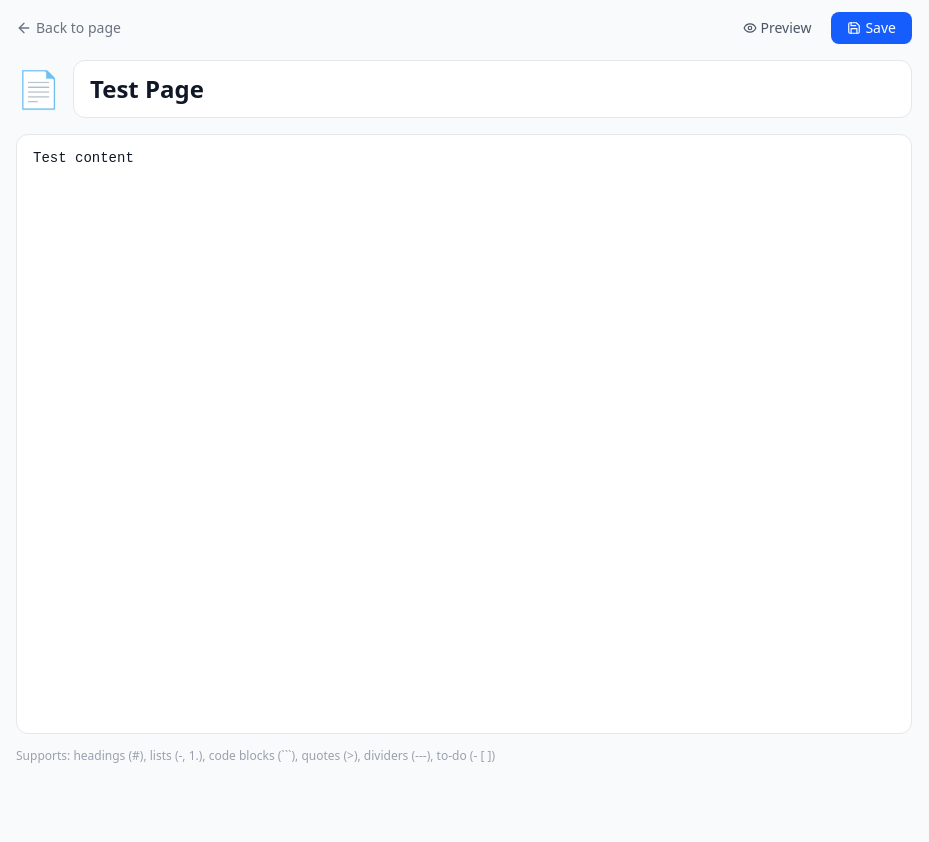
PageEdit › should show success message after saving
Step 1. Replace the text in the field showing "Test Page" with "Updated Title" → x=492, y=89, box [73,60,912,118]
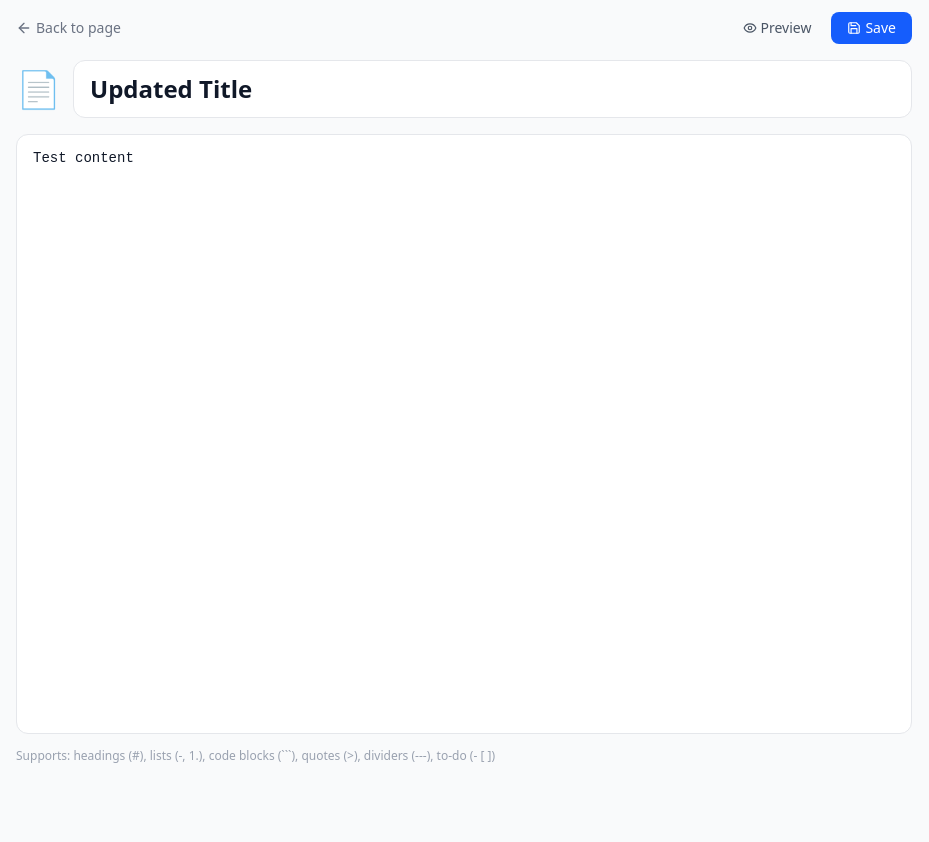
Step 2. Click the button "Save" → x=872, y=28, box [831,12,912,44]
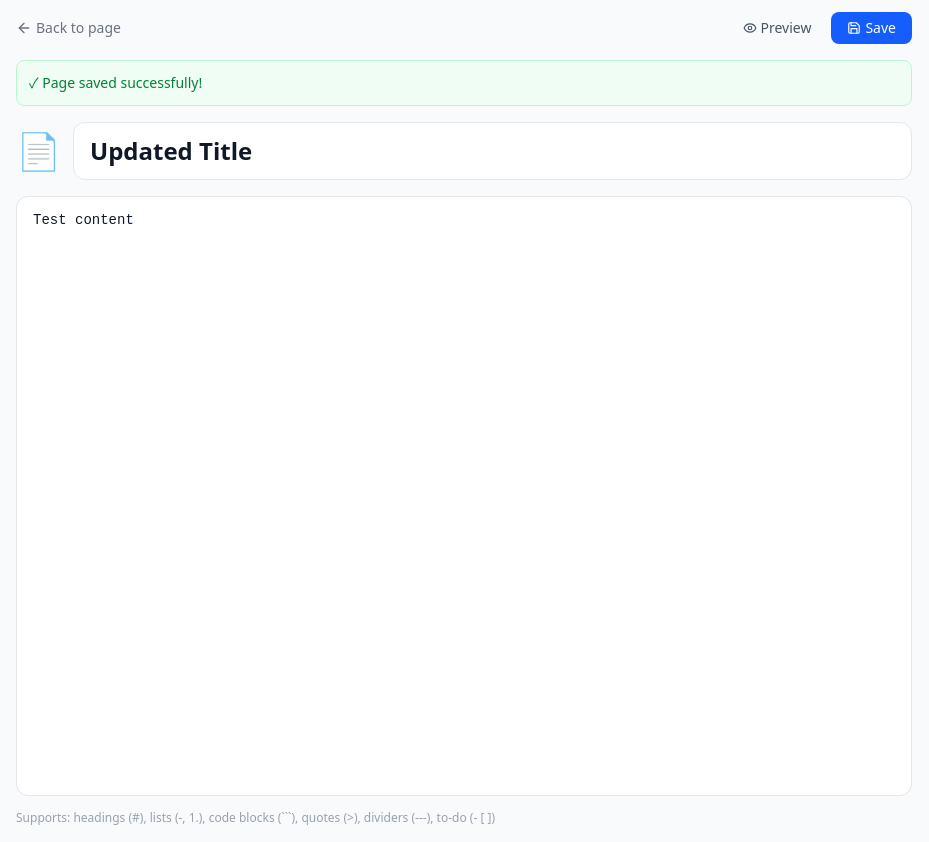
Expected: the text "✓ Page saved successfully!" is shown, [29,73,202,92]
